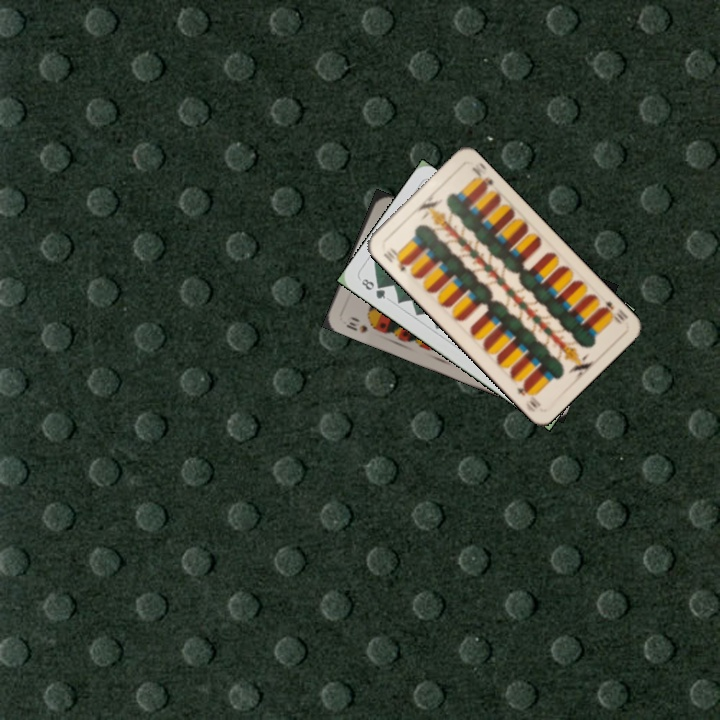E10: (596, 296, 631, 327), (379, 244, 411, 274)
G8: (357, 274, 388, 302)
S10: (342, 312, 371, 336)
